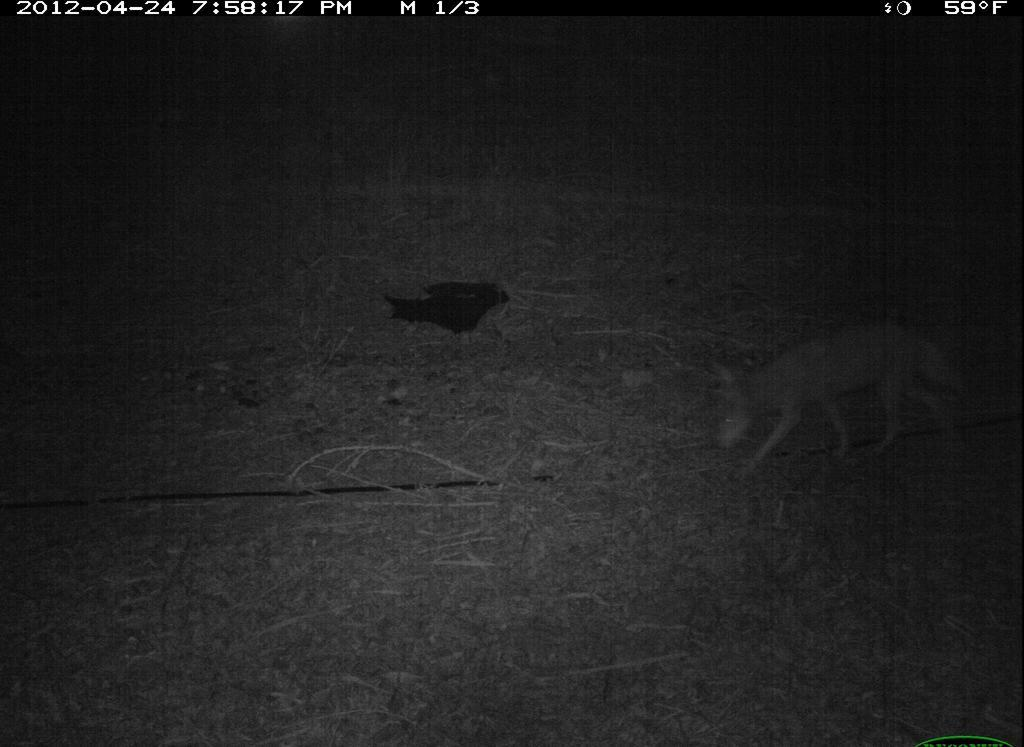coyote: (655, 312, 986, 486)
